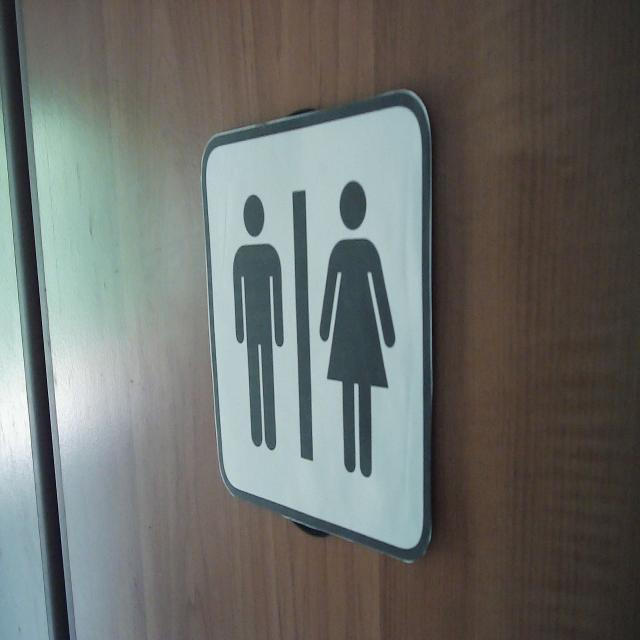restroom: (198, 83, 436, 569)
